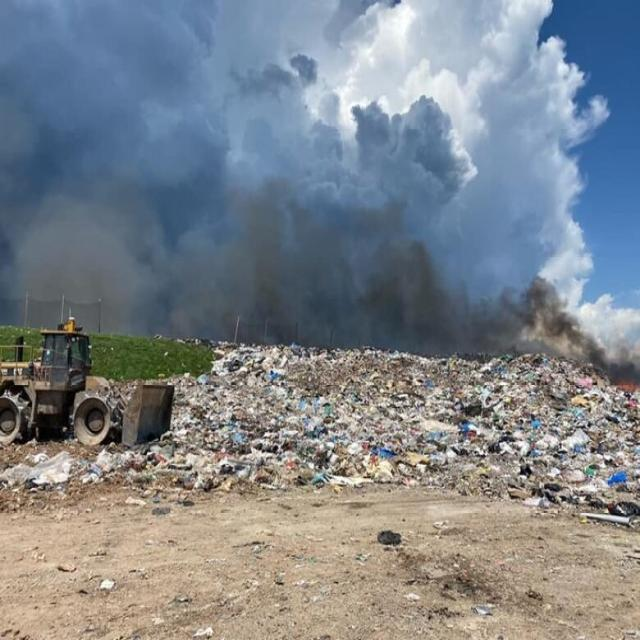Smoke: (0, 80, 607, 359)
